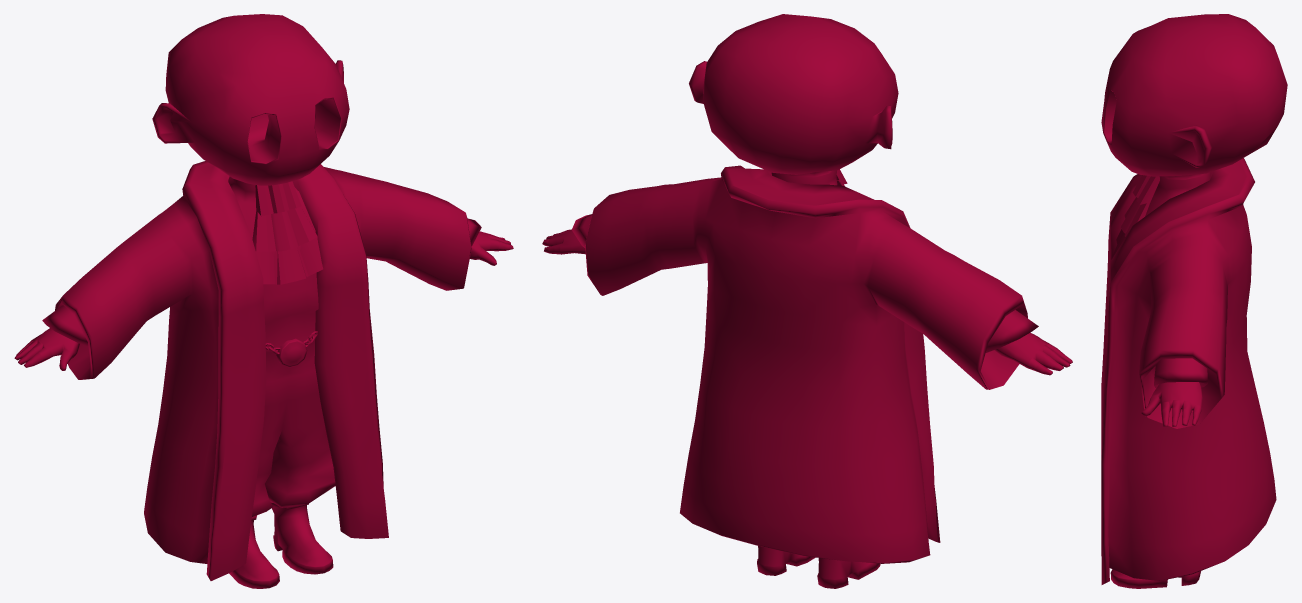
File: G_LP_Red_01a.fbx
3 views of the same model, side by side, from view 1: azimuth 30°, elevation 25°; view 2: azimuth 150°, elevation 25°; view 3: azimuth 270°, elevation 25° (orthographic). The views are drawn at different scales.
Parts seen in each view (by area): view 1: polySurface7.002, polySurface1.001; view 2: polySurface7.002, polySurface1.001; view 3: polySurface7.002, polySurface1.001.
Boxes of the visible parts, x1,y1,x2,y2 form: polySurface7.002: (55, 161, 471, 580); polySurface1.001: (14, 14, 513, 588); polySurface7.002: (585, 165, 1027, 563); polySurface1.001: (542, 14, 1072, 588); polySurface7.002: (1101, 158, 1276, 584); polySurface1.001: (1101, 14, 1287, 588).
Bounding box in the file's own units: 150 × 153 × 47.8.
